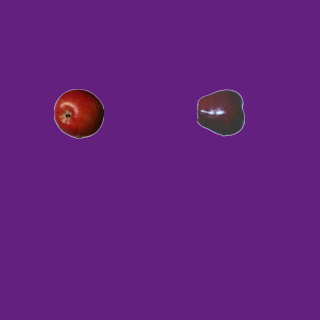Apple Braeburn: (53, 88, 103, 138)
Apple Red Delicious: (196, 87, 246, 137)
